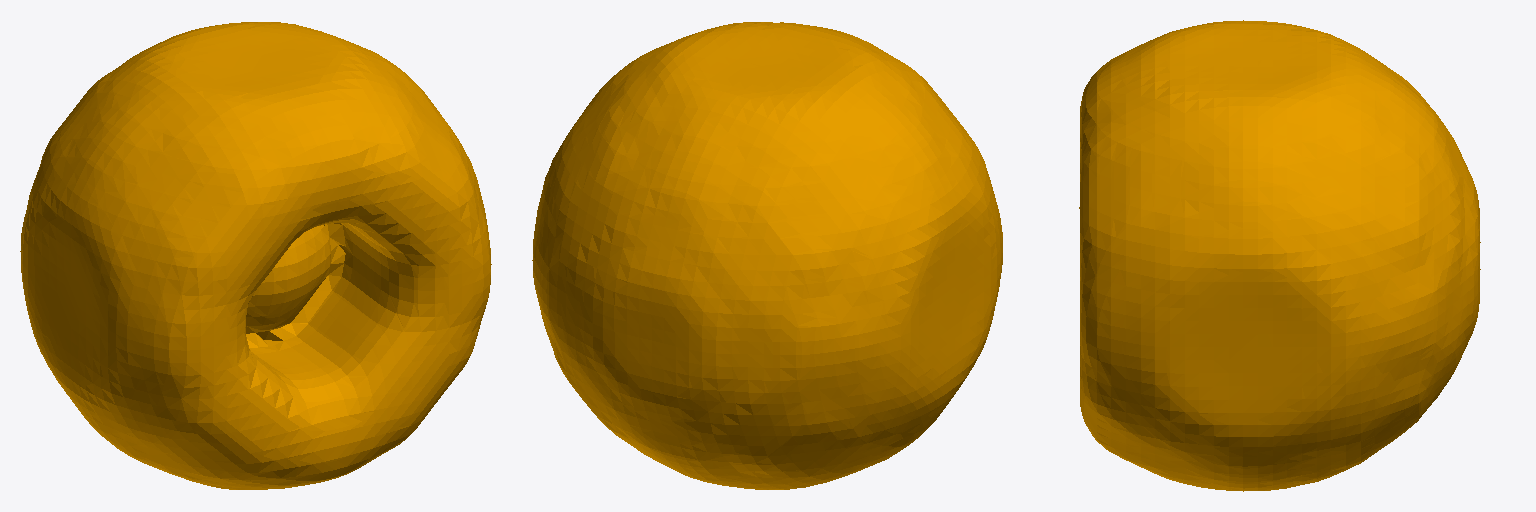
URDF robot description (object):
<?xml version="1.0"?>
        <robot name="object">
          <link name="object">
            <visual>
              <origin xyz="0.0 0.0 0.0"/>
              <geometry>
                <mesh filename="A1.stl" scale="1.00 1.00 1.00"/>
              </geometry>
            </visual>
            <collision>
              <origin xyz="0.0 0.0 0.0"/>
              <geometry>
                <mesh filename="A1.stl" scale="1.00 1.00 1.00"/>
              </geometry>
            </collision>
          </link>
        </robot>

--- Render facts (derived) ---
3 views of the same robot in one strip: view 1: azimuth 30°, elevation 25°; view 2: azimuth 150°, elevation 25°; view 3: azimuth 270°, elevation 25° (orthographic).
Robot: object — 1 links, 0 joints (none); root link object; default pose: every joint at zero.
Links seen in each view (by area): view 1: object; view 2: object; view 3: object.
Link boxes in pixels (x1,y1,x2,y2): object: [20, 22, 491, 489]; object: [532, 22, 1002, 489]; object: [1079, 20, 1480, 491].
Bounding box of the posed robot: 0.1 × 0.0925 × 0.1 m (x, y, z).
1 mesh visuals loaded from 1 distinct referenced files (1 binary STL).